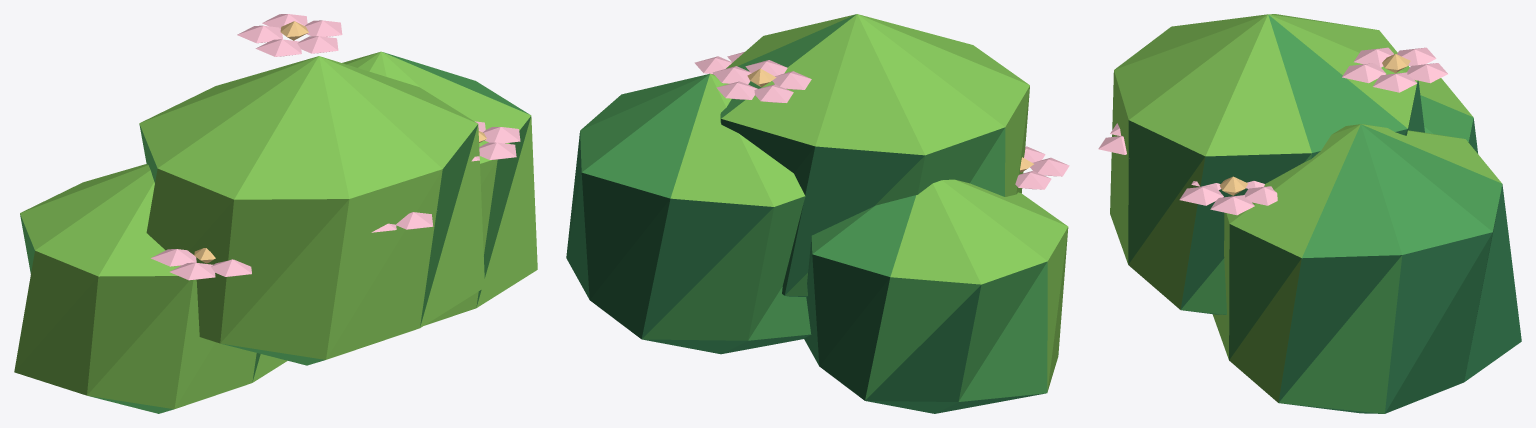
Rendered from ArbustoFlorido.fbx.
The picture shows the model from 3 angles, left to right: view 1: azimuth 30°, elevation 25°; view 2: azimuth 150°, elevation 25°; view 3: azimuth 270°, elevation 25°; orthographic projection. The views are drawn at different scales.
Parts seen in each view (by area): view 1: ArbustoFlorido_Folha_3, ArbustoFlorido_Folha_2, ArbustoFlorido_Folha_4, ArbustoFlorido_Folha_5; view 2: ArbustoFlorido_Folha_3, ArbustoFlorido_Folha_2, ArbustoFlorido_Folha_1, ArbustoFlorido_Folha_4; view 3: ArbustoFlorido_Folha_3, ArbustoFlorido_Folha_2, ArbustoFlorido_Folha_1, ArbustoFlorido_Folha_4, ArbustoFlorido_Folha_5.
Boxes of the visible parts, left/top/right/bottom form: ArbustoFlorido_Folha_3: left=14, top=51, right=537, bottom=409; ArbustoFlorido_Folha_2: left=20, top=52, right=530, bottom=413; ArbustoFlorido_Folha_4: left=151, top=14, right=520, bottom=280; ArbustoFlorido_Folha_5: left=194, top=21, right=486, bottom=263; ArbustoFlorido_Folha_3: left=670, top=14, right=1068, bottom=392; ArbustoFlorido_Folha_2: left=580, top=14, right=1047, bottom=401; ArbustoFlorido_Folha_1: left=566, top=114, right=1045, bottom=413; ArbustoFlorido_Folha_4: left=694, top=52, right=1069, bottom=189; ArbustoFlorido_Folha_3: left=1110, top=14, right=1501, bottom=402; ArbustoFlorido_Folha_2: left=1128, top=14, right=1502, bottom=413; ArbustoFlorido_Folha_1: left=1180, top=80, right=1521, bottom=413; ArbustoFlorido_Folha_4: left=1098, top=47, right=1447, bottom=215; ArbustoFlorido_Folha_5: left=1219, top=54, right=1410, bottom=195.
Size of the model in its own units: 504 by 347 by 365.
